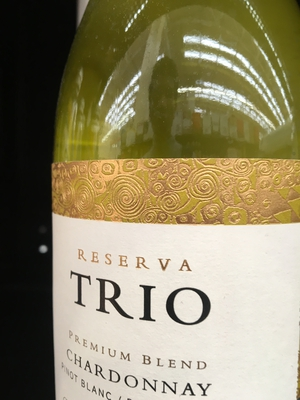trio chardonnay: (43, 35, 300, 393)
